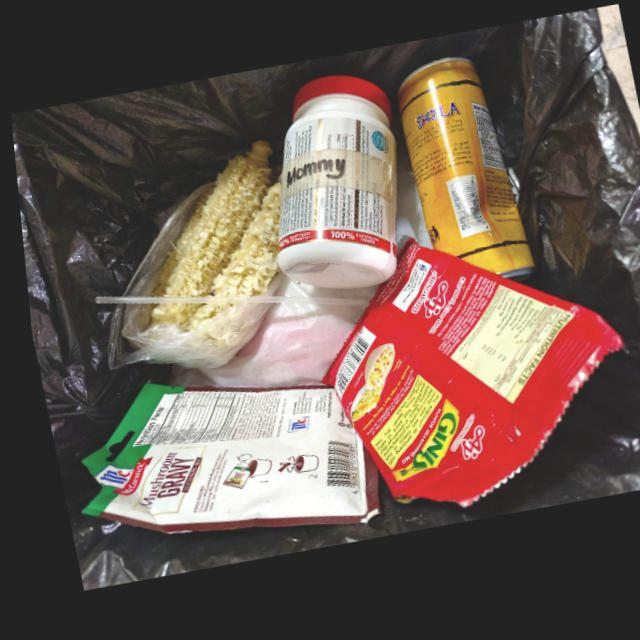aluminum: (394, 63, 529, 289)
left_over_food: (140, 143, 268, 329), (205, 186, 277, 300), (180, 304, 223, 332)
plastic_bag: (92, 143, 278, 372)
plastic_bottle: (271, 79, 393, 295)
plastic_sachet: (314, 242, 617, 514), (71, 384, 369, 536)
